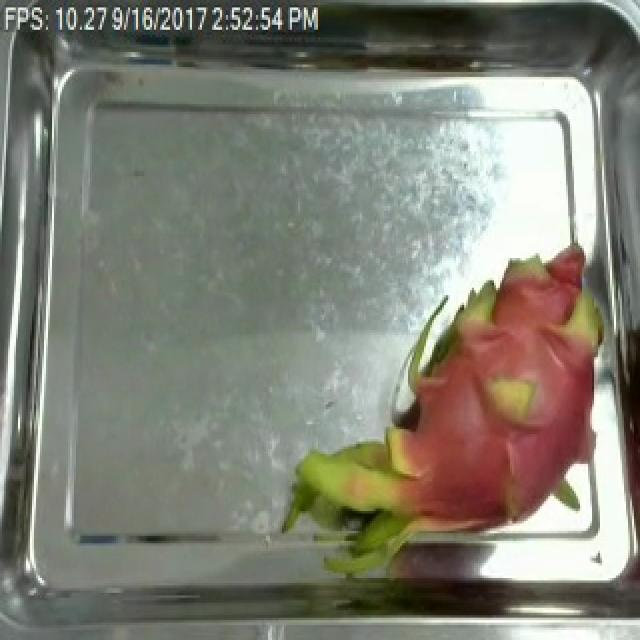fruit: (270, 228, 622, 593)
